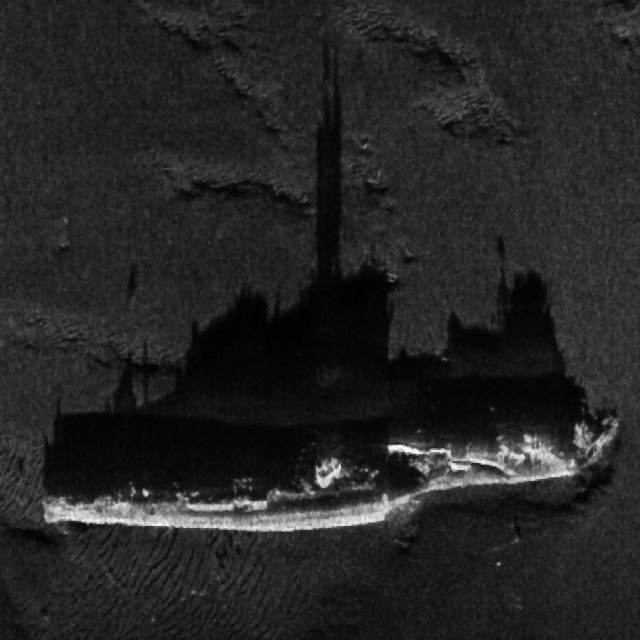Ship: (32, 379, 623, 549)
